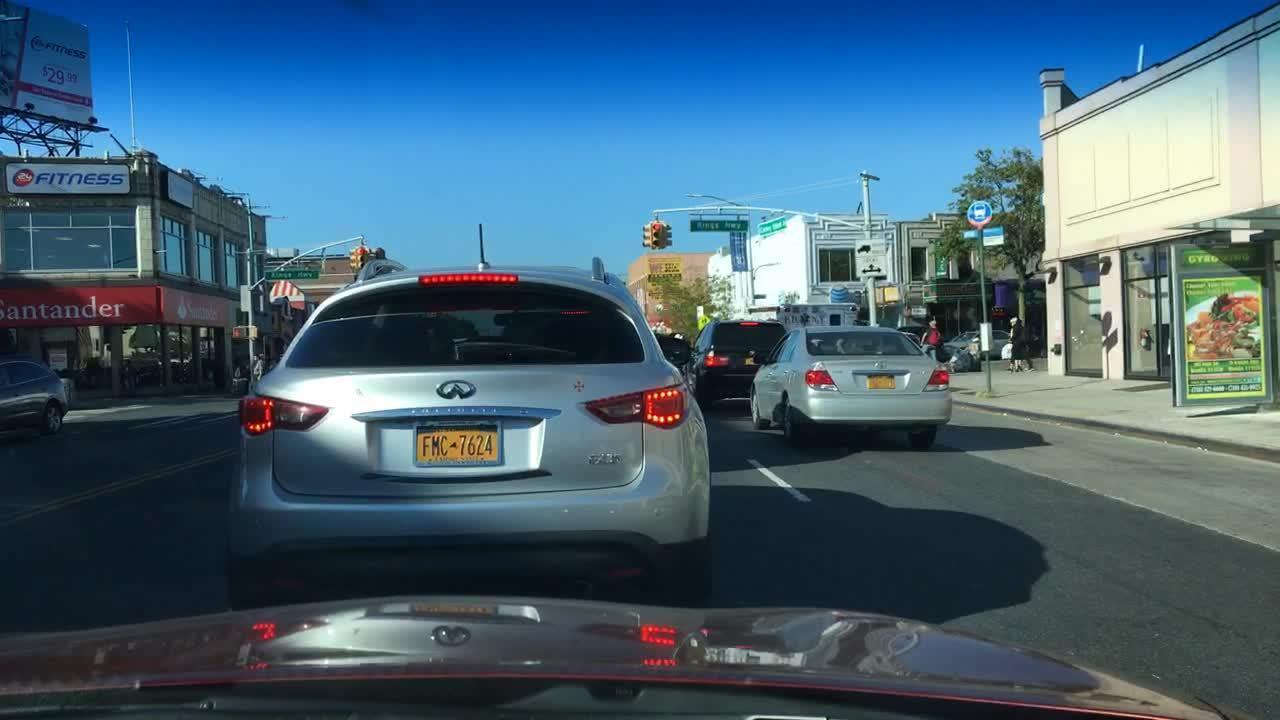Infiniti: (430, 375, 478, 407)
